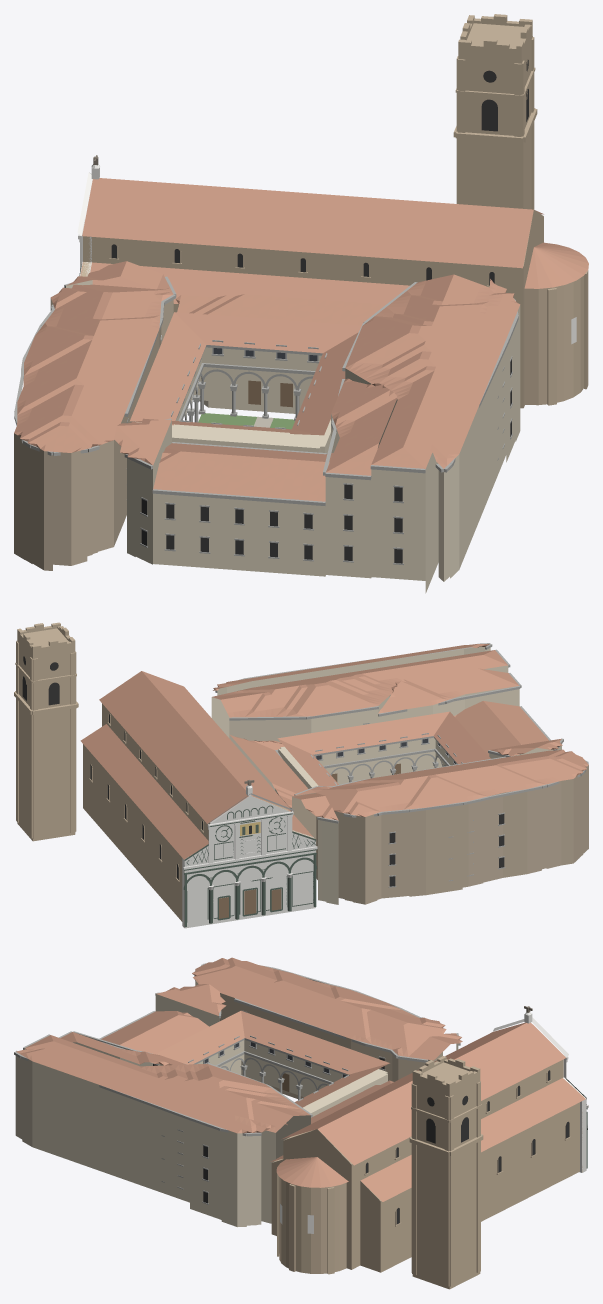
File: miniato.glb
The picture shows the model from 3 angles, top to bottom: view 1: azimuth 30°, elevation 25°; view 2: azimuth 150°, elevation 25°; view 3: azimuth 270°, elevation 25°; orthographic projection. The views are drawn at different scales.
Parts seen in each view (by area): view 1: monastero@1018-99999.roof_m, monastero@1018-99999.conv, chiesa@1018-99999.roof, chiesa@1018-99999.forte, palazzo_vescovi@1295-99999.roof_m, campanile@1523-99999.forte, palazzo_vescovi@1295-99999.rough, chiostro@1455-99999.roof, chiostro@1455-99999.conv, monastero@1018-99999.serena, chiostro@1455-99999.serena, monastero@1018-99999.dark (+3 smaller); view 2: palazzo_vescovi@1295-99999.rough, monastero@1018-99999.roof_m, chiesa@1018-99999.roof, campanile@1523-99999.forte, facciata@1207-99999.marble, palazzo_vescovi@1295-99999.roof_m, monastero@1018-99999.conv, chiesa@1018-99999.forte, chiostro@1455-99999.roof, facciata@1207-99999.verde, chiostro@1455-99999.conv, monastero@1018-99999.serena (+4 smaller); view 3: monastero@1018-99999.conv, chiesa@1018-99999.forte, monastero@1018-99999.roof_m, chiesa@1018-99999.roof, campanile@1523-99999.forte, palazzo_vescovi@1295-99999.roof_m, chiostro@1455-99999.roof, chiostro@1455-99999.conv, palazzo_vescovi@1295-99999.rough, chiostro@1455-99999.serena, monastero@1018-99999.serena, palazzo_vescovi@1295-99999.serena (+2 smaller).
Part boxes in pixels (x1,y1,x2,y2): monastero@1018-99999.roof_m: (66,261,520,501); monastero@1018-99999.conv: (66,280,520,593); chiesa@1018-99999.roof: (80,178,588,304); chiesa@1018-99999.forte: (83,210,588,408); palazzo_vescovi@1295-99999.roof_m: (14,274,173,452); campanile@1523-99999.forte: (453,14,537,209); palazzo_vescovi@1295-99999.rough: (14,298,173,570); chiostro@1455-99999.roof: (130,312,361,435); chiostro@1455-99999.conv: (135,347,330,453); monastero@1018-99999.serena: (64,282,518,564); chiostro@1455-99999.serena: (171,340,327,429); monastero@1018-99999.dark: (141,359,511,563); palazzo_vescovi@1295-99999.rough: (292,765,588,904); monastero@1018-99999.roof_m: (212,644,562,820); chiesa@1018-99999.roof: (80,671,312,859); campanile@1523-99999.forte: (14,622,78,841); facciata@1207-99999.marble: (182,793,317,928); palazzo_vescovi@1295-99999.roof_m: (293,749,588,816); monastero@1018-99999.conv: (211,646,561,904); chiesa@1018-99999.forte: (83,703,210,921); chiostro@1455-99999.roof: (277,711,490,786); facciata@1207-99999.verde: (183,805,317,927); chiostro@1455-99999.conv: (278,737,453,788); monastero@1018-99999.serena: (215,643,563,823); monastero@1018-99999.conv: (15,994,458,1227); chiesa@1018-99999.forte: (271,1059,579,1274); monastero@1018-99999.roof_m: (16,984,462,1133); chiesa@1018-99999.roof: (270,1022,585,1201); campanile@1523-99999.forte: (409,1056,483,1289); palazzo_vescovi@1295-99999.roof_m: (192,957,446,1060); chiostro@1455-99999.roof: (155,1010,389,1107); chiostro@1455-99999.conv: (197,1040,387,1116); palazzo_vescovi@1295-99999.rough: (195,970,442,1098); chiostro@1455-99999.serena: (188,1035,349,1101); monastero@1018-99999.serena: (14,992,460,1204); palazzo_vescovi@1295-99999.serena: (194,963,428,1070).
Bounding box in the file's own units: 83.06 × 33.61 × 84.08.
